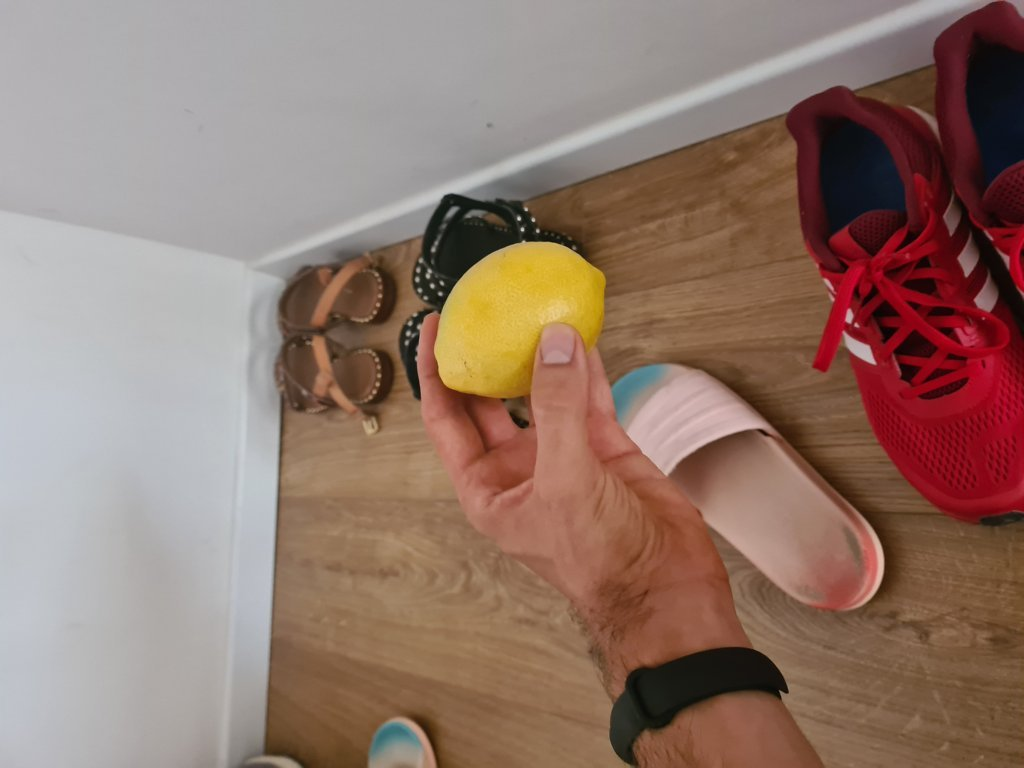lemon: (434, 246, 610, 400)
